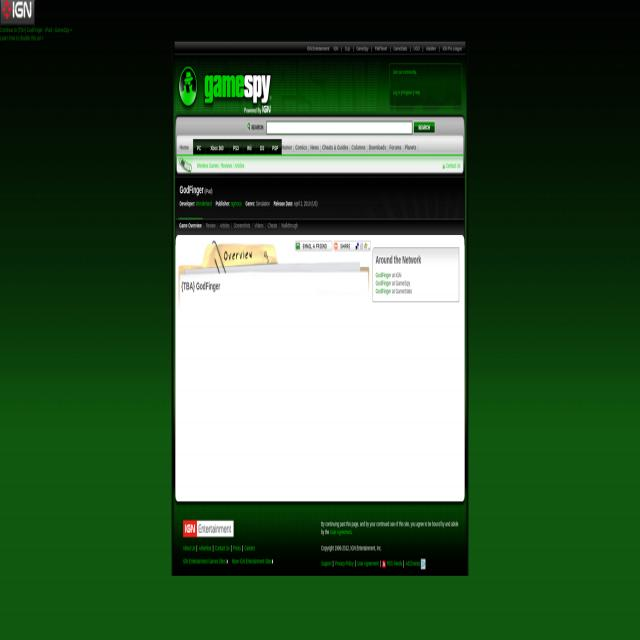button: (173, 55, 274, 115), (0, 0, 35, 25), (183, 521, 234, 537), (295, 240, 333, 252), (334, 240, 371, 252), (320, 141, 350, 154), (206, 141, 228, 156), (367, 141, 388, 154), (413, 122, 435, 134), (247, 119, 264, 133), (350, 141, 367, 154), (268, 141, 282, 156), (388, 141, 403, 154), (403, 141, 418, 154), (280, 141, 294, 154), (294, 141, 308, 154), (193, 141, 205, 156), (230, 141, 242, 156), (243, 141, 255, 156), (256, 141, 268, 156), (178, 141, 190, 154), (309, 141, 321, 154), (420, 558, 426, 570)
field: (266, 122, 412, 134)
